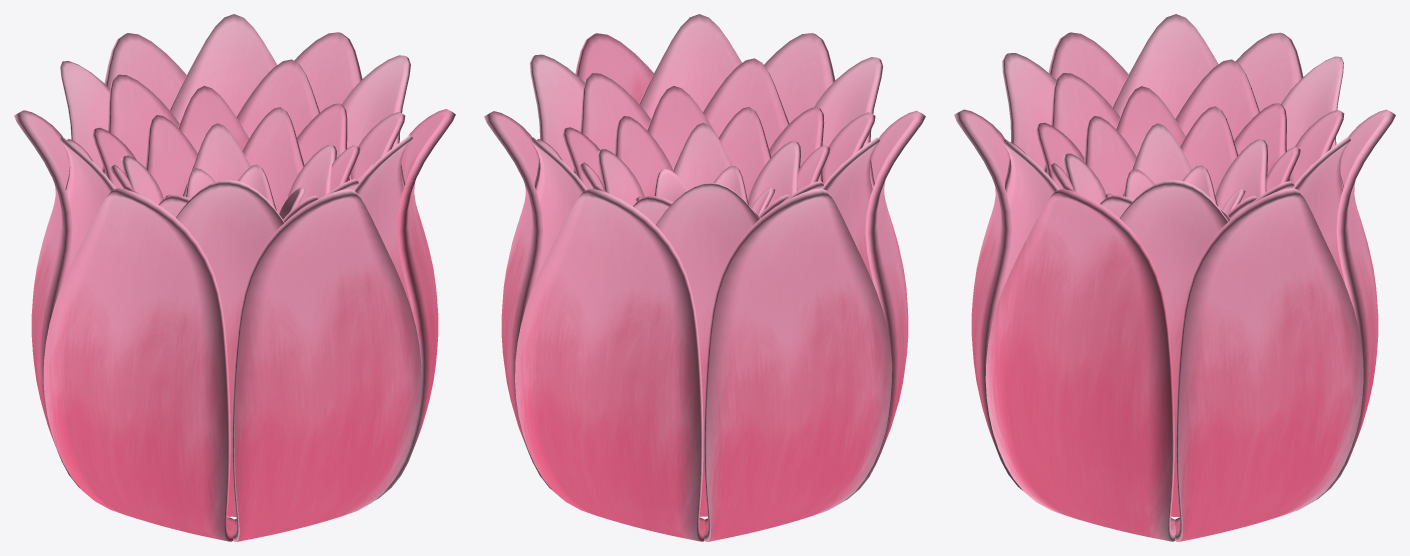
File: intro_small.glb
3 views of the same model, side by side, from view 1: azimuth 30°, elevation 25°; view 2: azimuth 150°, elevation 25°; view 3: azimuth 270°, elevation 25° (orthographic).
Parts seen in each view (by area): view 1: Sphere.001, Sphere.016, Sphere.008, Sphere.017, Sphere.015, Sphere.020, Sphere.019, Sphere.027, Sphere.035, Sphere.022, Sphere.018, Sphere.014 (+13 smaller); view 2: Sphere.015, Sphere.014, Sphere.021, Sphere.016, Sphere.018, Sphere.022, Sphere.001, Sphere.019, Sphere.003, Sphere.008, Sphere.028, Sphere.007 (+15 smaller); view 3: Sphere.017, Sphere.018, Sphere.019, Sphere.014, Sphere.001, Sphere.007, Sphere.008, Sphere.025, Sphere.022, Sphere.015, Sphere.021, Sphere.016 (+14 smaller).
Boxes of the visible parts, box(x1,y1,x2,y2) form: Sphere.001: box(232, 189, 421, 541); Sphere.016: box(43, 188, 234, 541); Sphere.008: box(175, 180, 284, 516); Sphere.017: box(374, 109, 455, 500); Sphere.015: box(14, 110, 80, 488); Sphere.020: box(169, 14, 276, 123); Sphere.019: box(342, 55, 410, 188); Sphere.027: box(236, 59, 319, 138); Sphere.035: box(242, 107, 304, 213); Sphere.022: box(353, 135, 412, 308); Sphere.018: box(294, 32, 362, 112); Sphere.014: box(104, 33, 229, 516); Sphere.015: box(703, 188, 892, 541); Sphere.014: box(515, 189, 705, 541); Sphere.021: box(655, 183, 758, 516); Sphere.016: box(844, 110, 925, 501); Sphere.018: box(484, 111, 552, 490); Sphere.022: box(639, 14, 741, 118); Sphere.001: box(764, 33, 835, 123); Sphere.019: box(529, 54, 585, 190); Sphere.003: box(703, 58, 789, 149); Sphere.008: box(814, 57, 883, 189); Sphere.028: box(573, 73, 650, 173); Sphere.007: box(821, 137, 879, 283); Sphere.017: box(985, 189, 1175, 541); Sphere.018: box(1175, 188, 1363, 541); Sphere.019: box(1119, 180, 1228, 516); Sphere.014: box(1315, 109, 1395, 500); Sphere.001: box(954, 109, 1022, 490); Sphere.007: box(1112, 14, 1218, 118); Sphere.008: box(1002, 53, 1056, 192); Sphere.025: box(1175, 59, 1259, 140); Sphere.022: box(1000, 139, 1059, 297); Sphere.015: box(1235, 32, 1303, 111); Sphere.021: box(1281, 56, 1343, 188); Sphere.016: box(1048, 32, 1128, 106).
Size of the model in its own units: 2.88 by 3.07 by 2.91.
9 materials, 2 textured.
